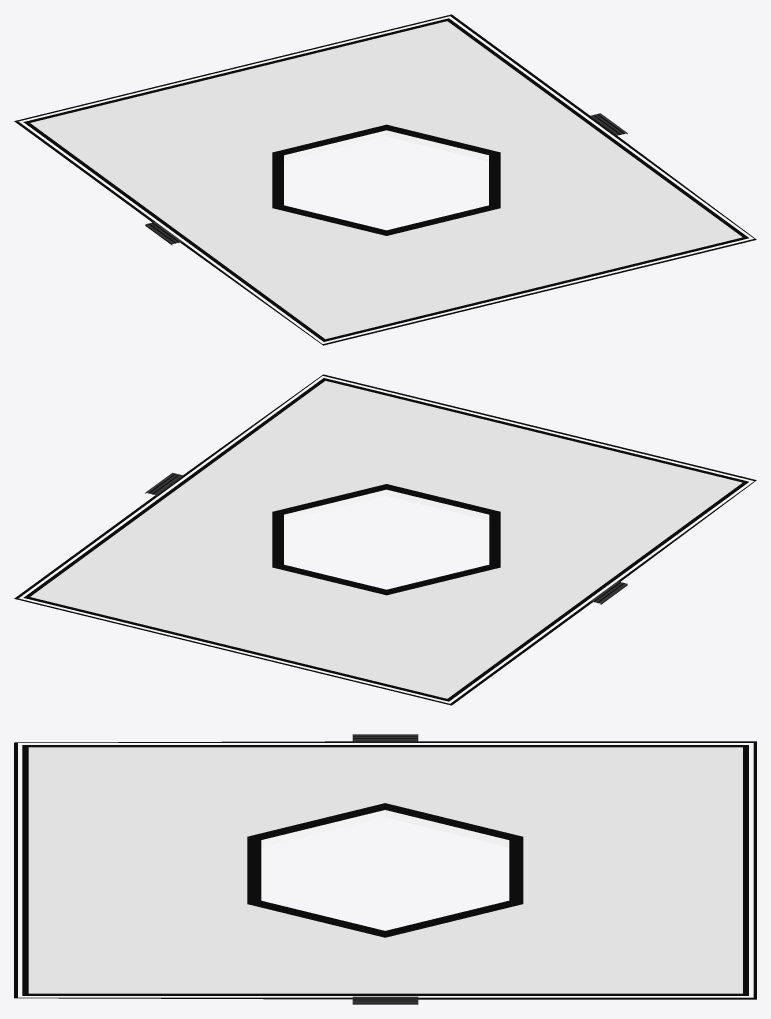
The model's file is Chao_Hall_SegundoAndar.gltf.
3 views of the same model, one above another, from view 1: azimuth 30°, elevation 25°; view 2: azimuth 150°, elevation 25°; view 3: azimuth 270°, elevation 25° (orthographic). The views are drawn at different scales.
Visible parts, largest first — view 1: ChaoHall; view 2: ChaoHall; view 3: ChaoHall.
Part boxes in pixels (x1,y1,x2,y2): ChaoHall: (14, 14, 756, 345); ChaoHall: (14, 374, 756, 705); ChaoHall: (14, 734, 756, 1004).
Bounding box in the file's own units: 15.38 × 0.2496 × 17.98.
Materials: 2 (1 with a texture image).
